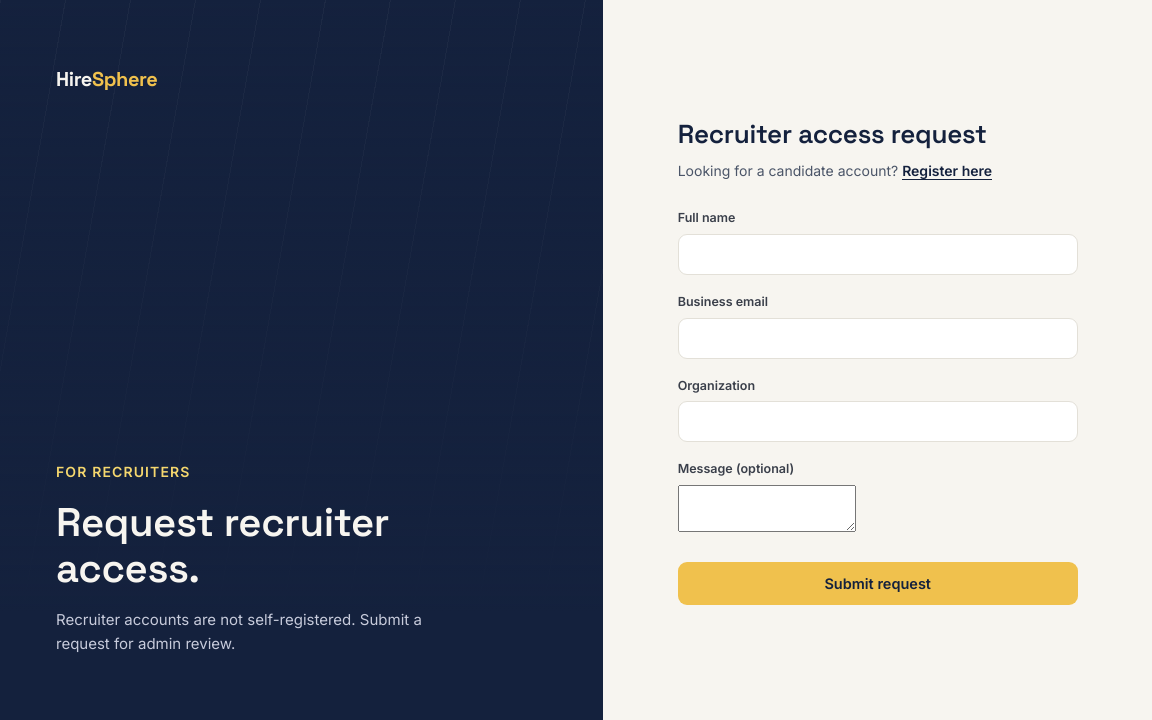
Test: Recruiter request validation › requires business email and organization
The width and height of the screenshot is (1152, 720).
Expected: the heading "Recruiter access request" is shown, top-left (678, 117), bottom-right (987, 151)
Click the button "Submit request" at (878, 584), box top-left (678, 562), bottom-right (1078, 605)
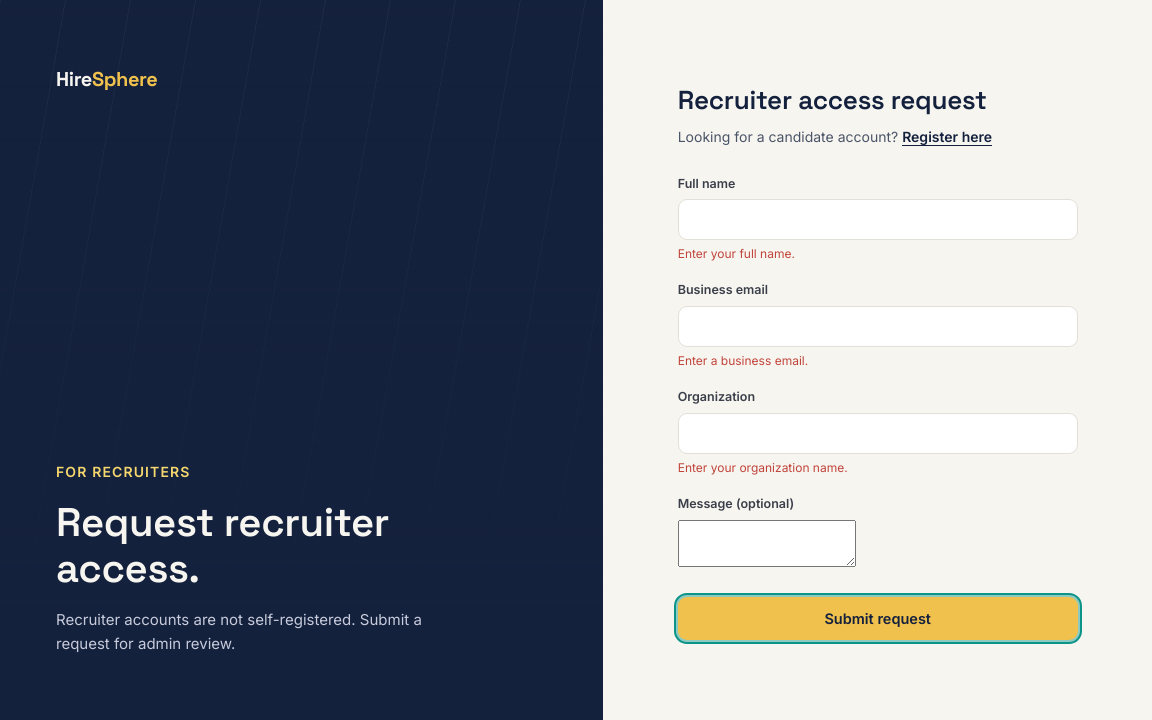
Expected: the text "Enter your full name." is shown, top-left (678, 246), bottom-right (795, 261)
Expected: the text "Enter a business email." is shown, top-left (678, 353), bottom-right (808, 368)
Expected: the text "Enter your organization name." is shown, top-left (678, 460), bottom-right (848, 475)
